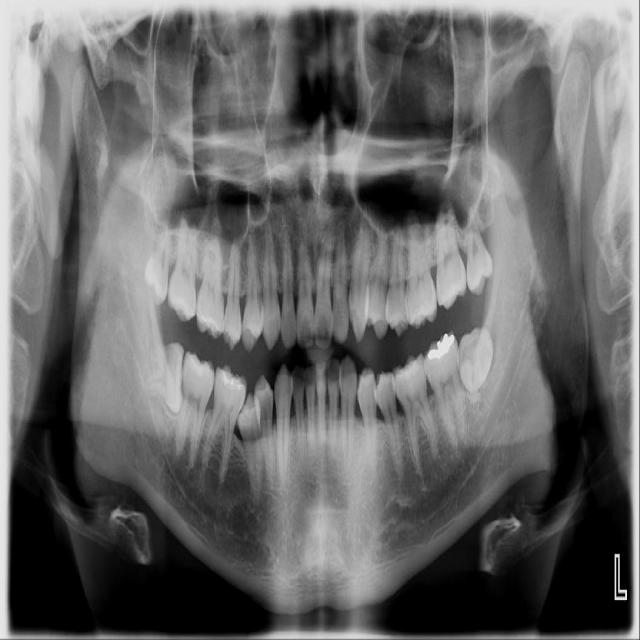Filling: (428, 333, 454, 359)
impacted tooth: (135, 341, 184, 409), (455, 328, 493, 389)
